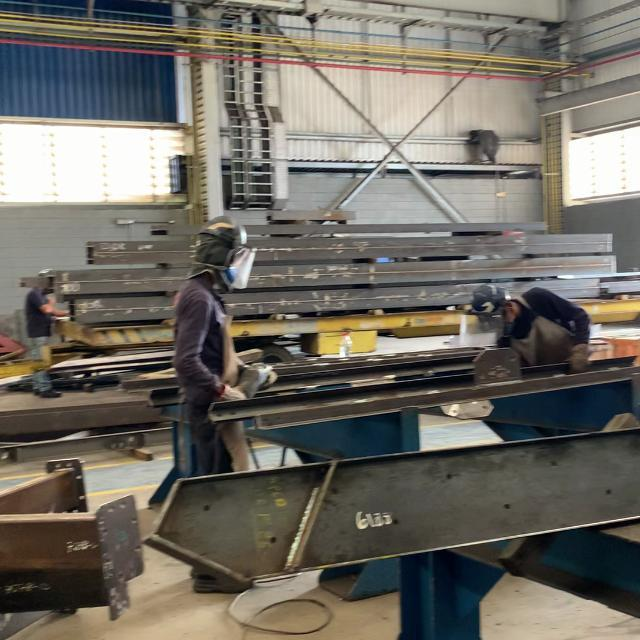eye-glass: (458, 312, 499, 351), (228, 249, 254, 289)
face-shield: (569, 344, 592, 372), (220, 385, 248, 403)
glove: (200, 222, 249, 241), (472, 284, 510, 296)
mask: (175, 219, 276, 464), (470, 283, 590, 375)
safety-shoe: (191, 571, 254, 593)
